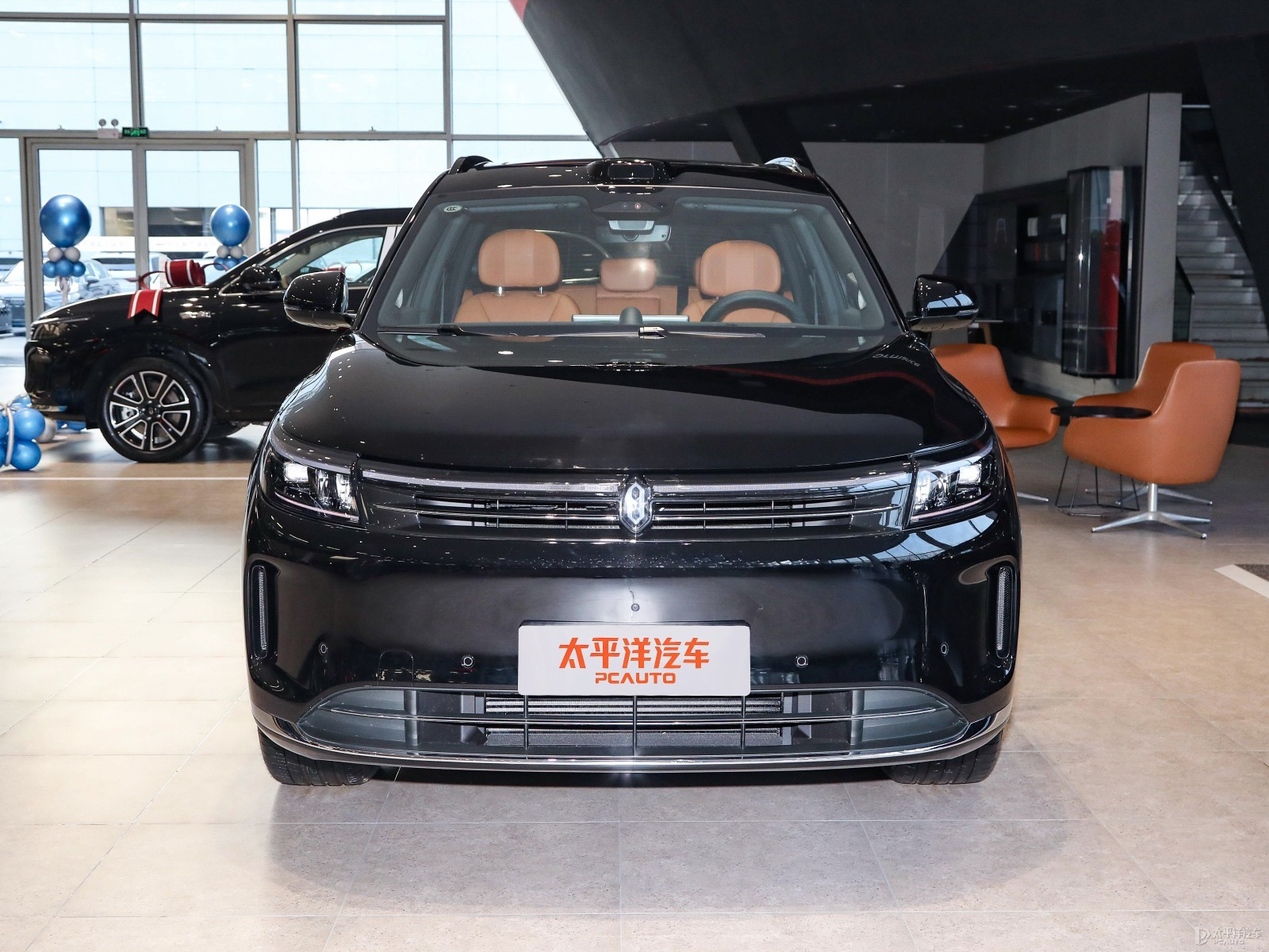AITO: (627, 483, 644, 524)
